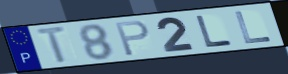2: (156, 16, 197, 54)
8: (77, 22, 116, 61)
L: (233, 10, 274, 45), (193, 14, 235, 48)
P: (114, 19, 151, 58)
T: (34, 25, 71, 66)
